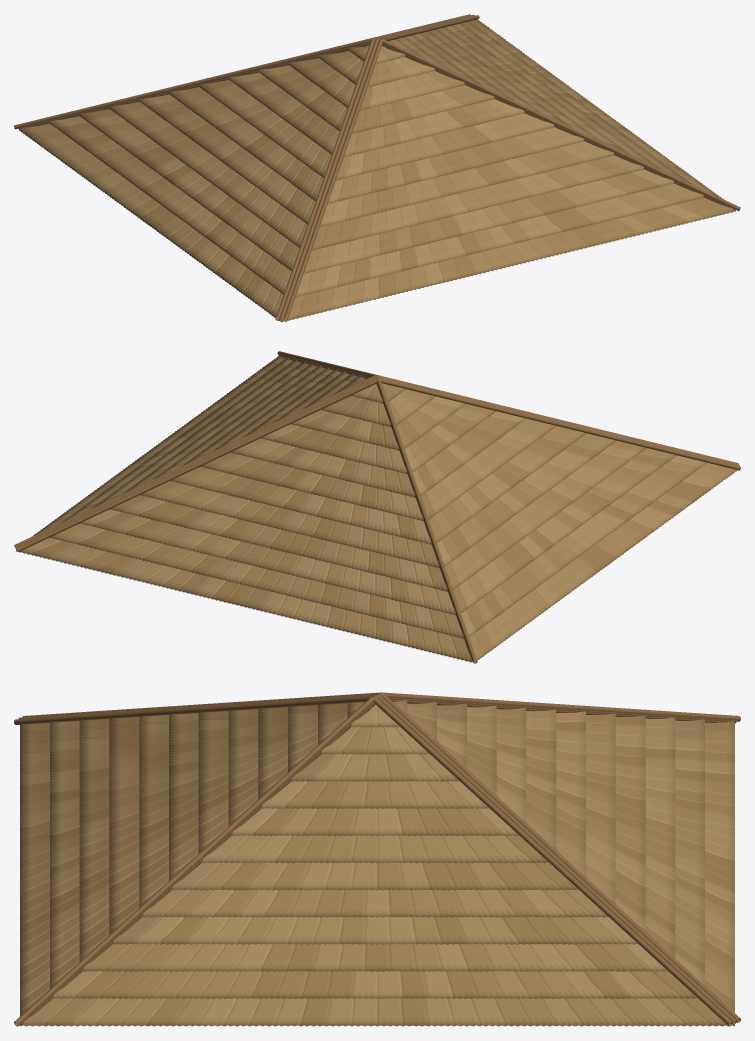
File: kiosk_roof.glb
3 renders of one model, top to bottom at view 1: azimuth 30°, elevation 25°; view 2: azimuth 150°, elevation 25°; view 3: azimuth 270°, elevation 25°, orthographic. The views are drawn at different scales.
Visible parts, largest first — view 1: Twelve thatch courses; view 2: Twelve thatch courses; view 3: Twelve thatch courses.
Part boxes in pixels (x1,y1,x2,y2): Twelve thatch courses: (14, 14, 740, 322); Twelve thatch courses: (14, 351, 740, 663); Twelve thatch courses: (14, 692, 740, 1026).
Size of the model in its own units: 6.79 by 1.87 by 6.79.
